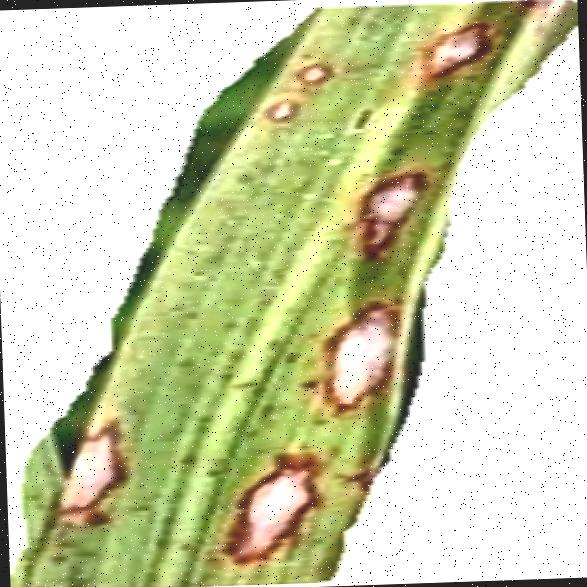Leaf_smut: (0, 0, 573, 587)
